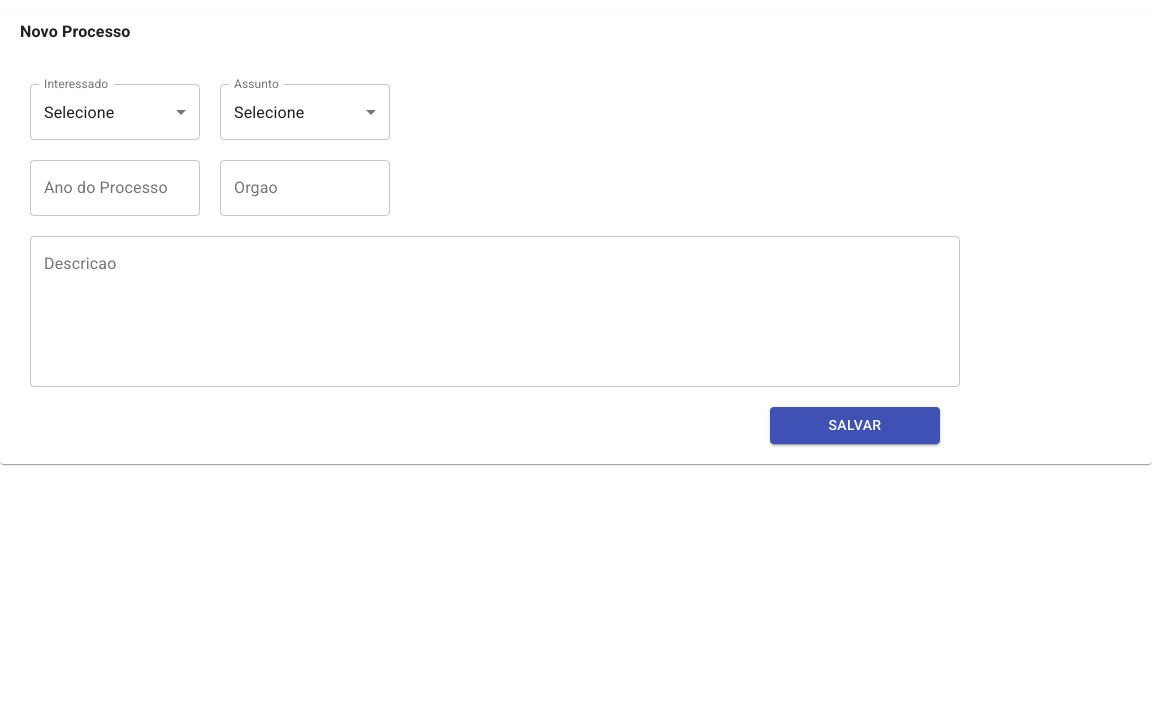
it: FormProcesso Component › Deve testar a validacao da descricao
This screenshot has width=1152, height=720.
Click the button "Salvar" at (855, 425), box [770, 407, 940, 444]
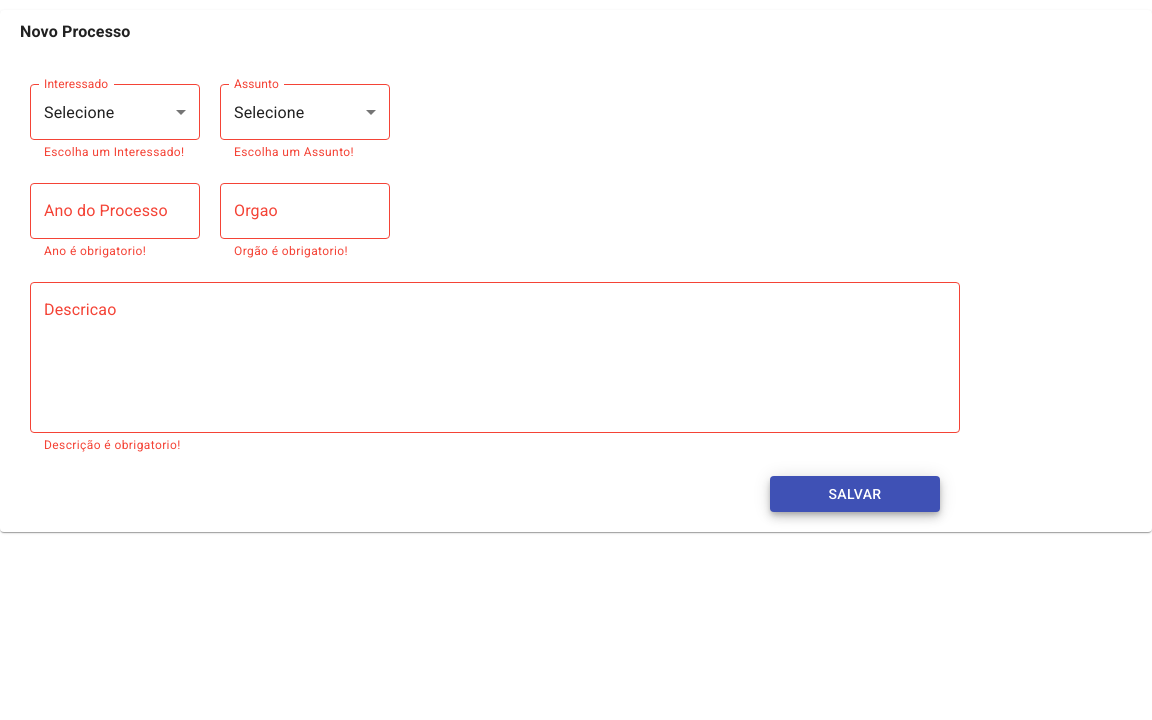
Expected: the text "Descrição é obrigatorio!" is shown, [44, 438, 181, 452]
Type "SOFTs " into the text box labelled "Descricao" at (495, 357), box [44, 300, 946, 414]
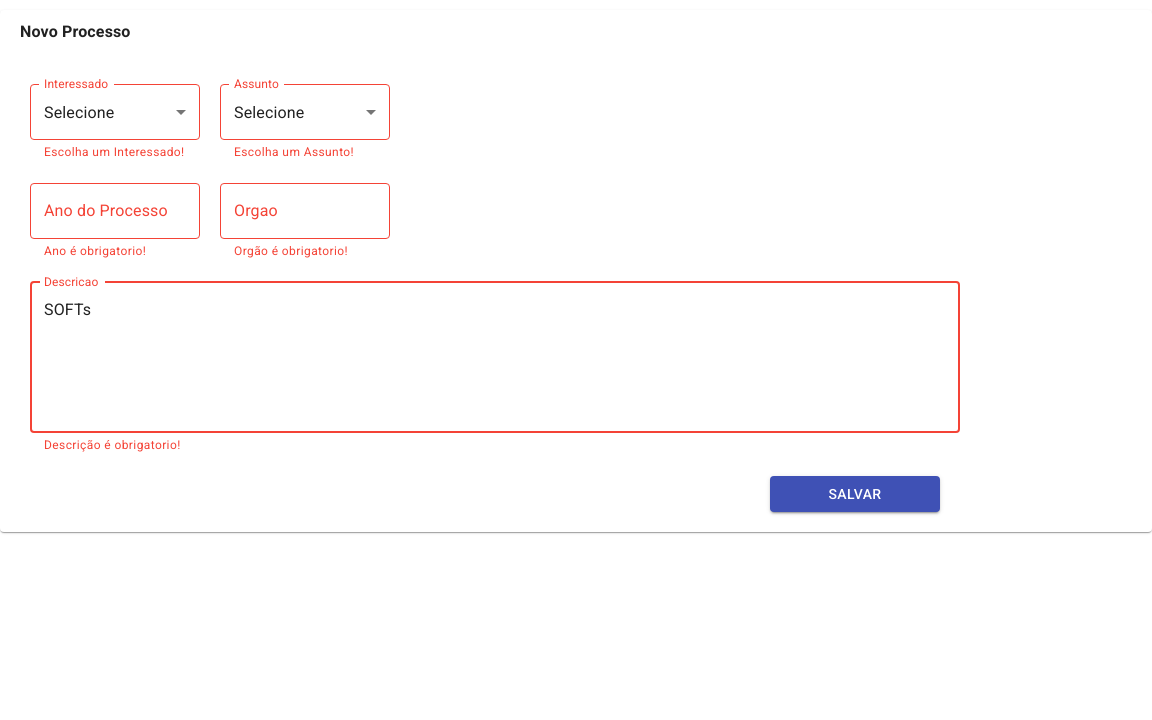
Click the button "Salvar" at (855, 494), box [770, 476, 940, 512]
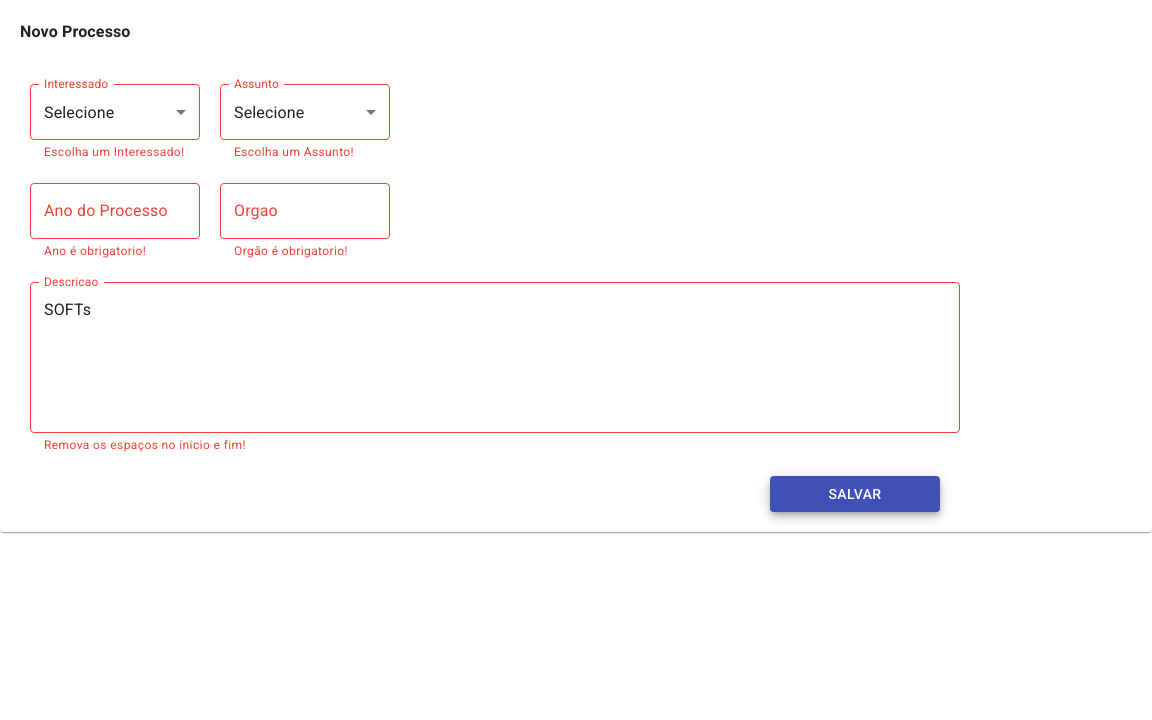
Expected: the text "Remova os espaços no inicio e fim!" is shown, [44, 438, 246, 452]
